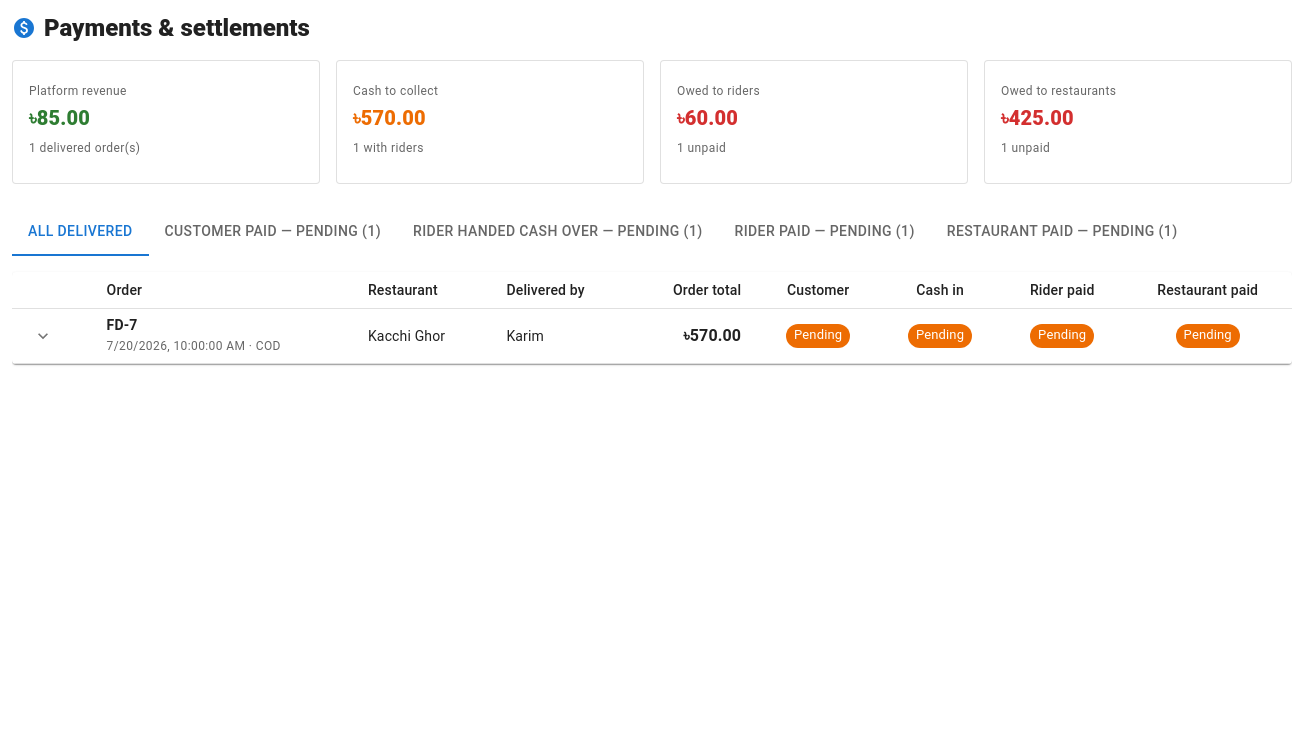
Test case: expanding a row breaks the order total into its splits
Expected: the text "FD-7" is shown, top-left (107, 317), bottom-right (138, 333)
Click the 1st button. click: coordinates (43, 336)
box: top-left (28, 321), bottom-right (58, 351)
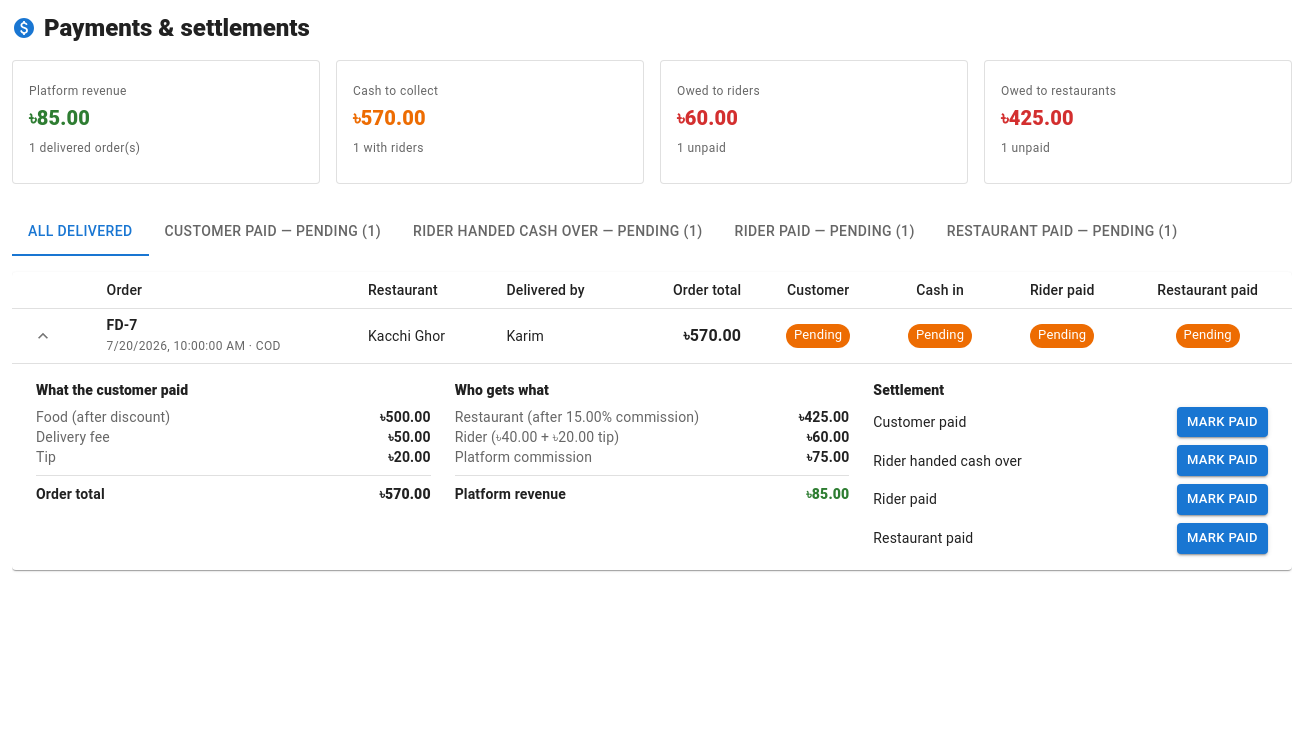
Now the heading "What the customer paid" is shown, box top-left (36, 382), bottom-right (188, 398)
Now the heading "Who gets what" is shown, box top-left (455, 382), bottom-right (549, 398)
Now the text "Restaurant (after 15.00% commission)" is shown, box top-left (455, 407), bottom-right (699, 427)
